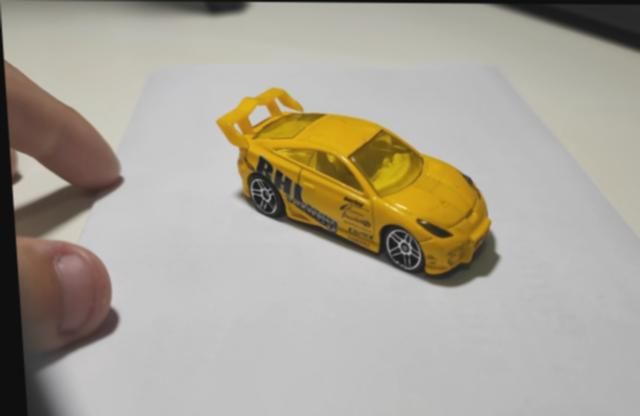07_RHLTURBO: (214, 88, 495, 281)
